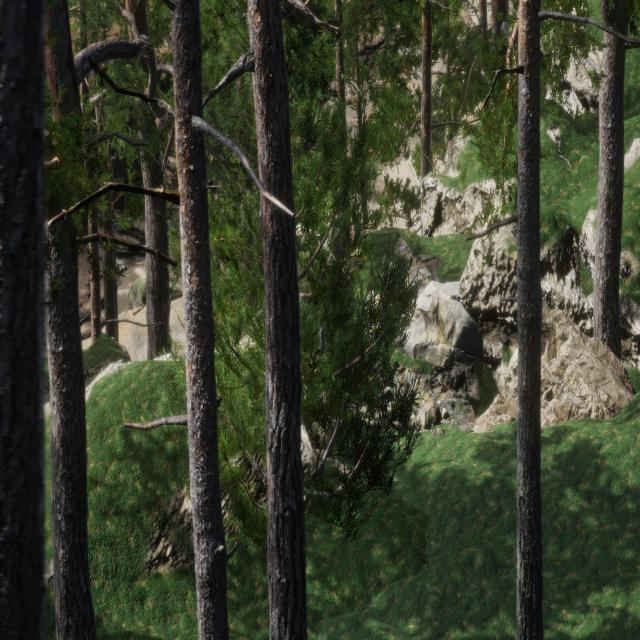Human: (312, 308, 331, 372)
